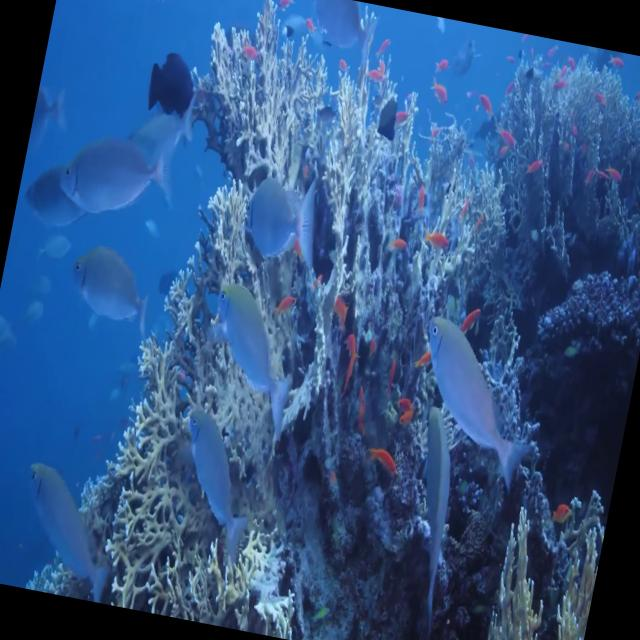fish: (402, 298, 556, 494), (380, 402, 490, 634), (157, 396, 277, 579), (190, 271, 314, 448), (2, 437, 132, 604), (49, 113, 186, 243), (230, 147, 342, 278), (52, 228, 160, 350), (132, 36, 211, 138), (296, 0, 383, 74), (27, 64, 78, 158), (329, 320, 366, 410), (322, 281, 360, 336), (371, 98, 411, 144), (364, 438, 404, 484), (544, 490, 580, 537), (425, 72, 454, 114), (426, 49, 454, 82), (475, 85, 501, 118)
